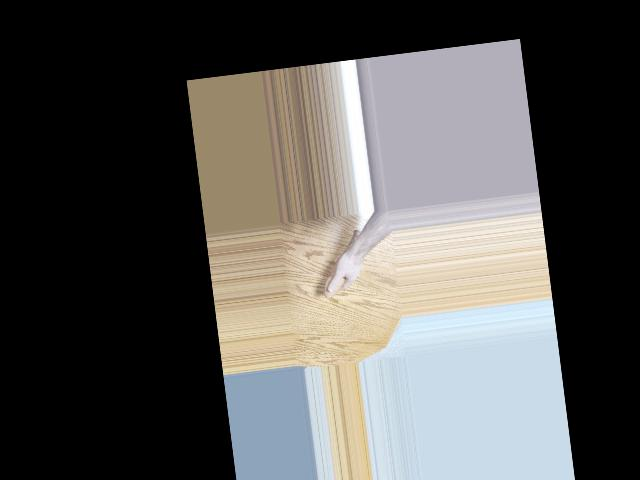sweet_potato: (317, 226, 371, 299)
